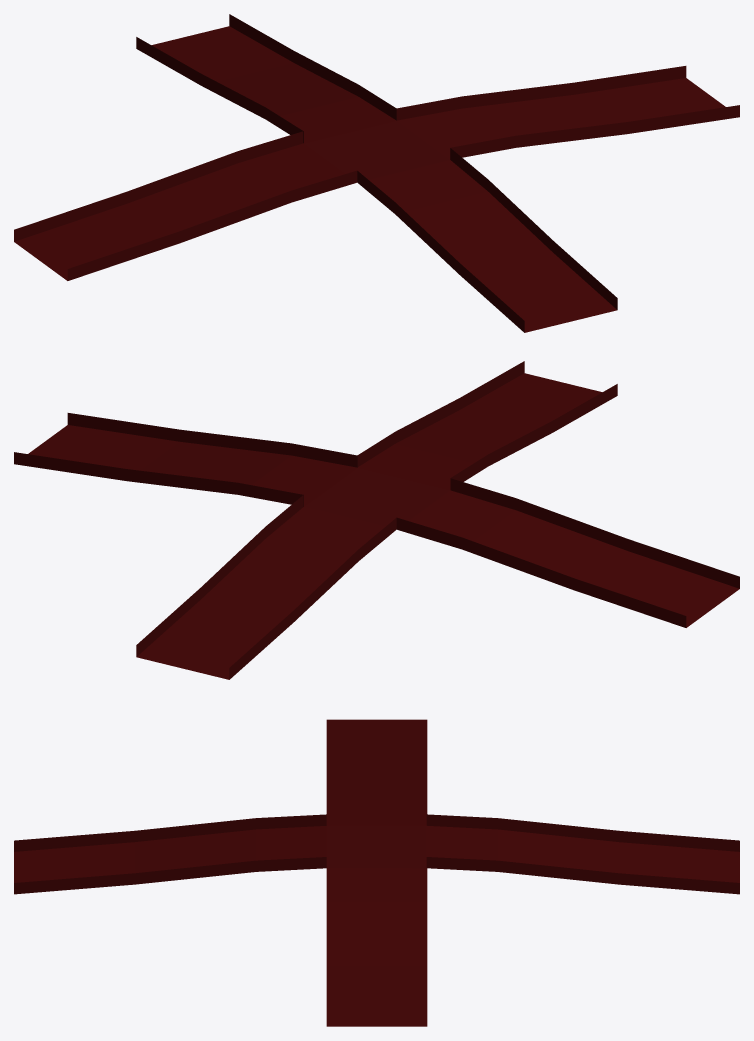
The model's file is SM_JapaneseBridge.FBX.
The picture shows the model from 3 angles, top to bottom: view 1: azimuth 30°, elevation 25°; view 2: azimuth 150°, elevation 25°; view 3: azimuth 270°, elevation 25°; orthographic projection. The views are drawn at different scales.
Visible parts, largest first — view 1: SM_JapaneseBridge; view 2: SM_JapaneseBridge; view 3: SM_JapaneseBridge.
Boxes of the visible parts, box(x1,y1,x2,y2) form: SM_JapaneseBridge: box(14, 14, 739, 332); SM_JapaneseBridge: box(14, 361, 739, 679); SM_JapaneseBridge: box(14, 719, 739, 1026).
Bounding box in the file's own units: 1445 × 1445 × 82.36.
